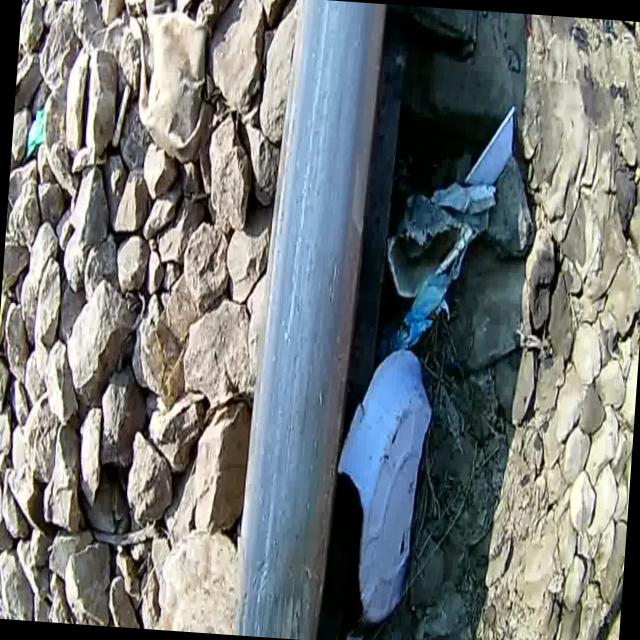Squats: (214, 0, 409, 640)
